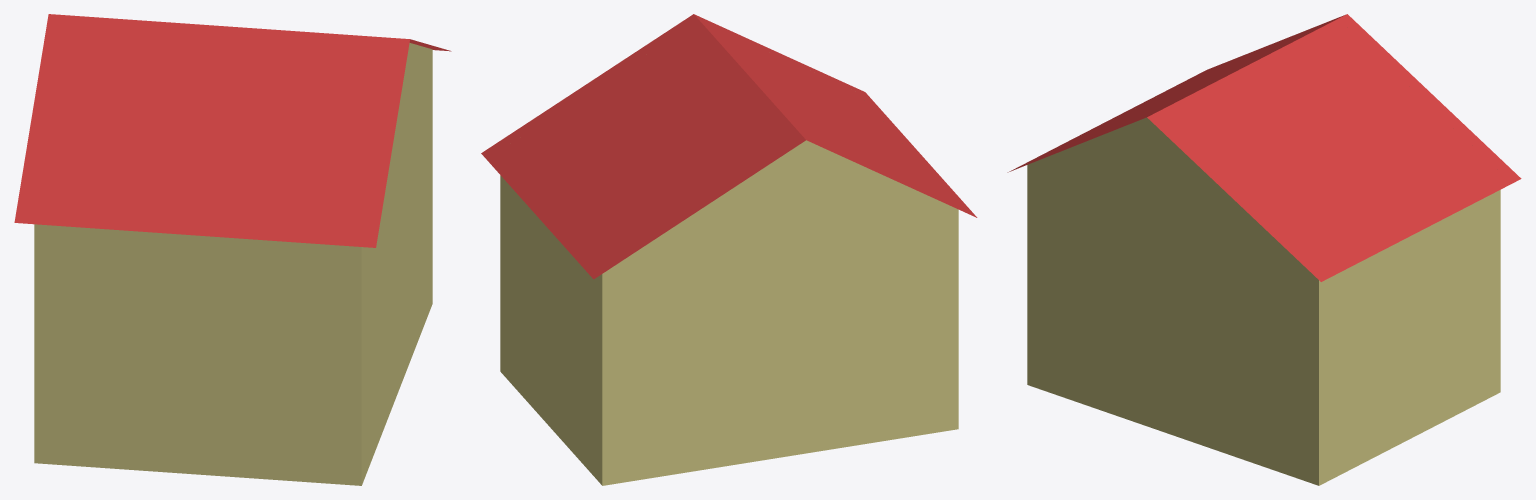
The picture shows the model from 3 angles, left to right: view 1: azimuth 30°, elevation 25°; view 2: azimuth 150°, elevation 25°; view 3: azimuth 270°, elevation 25°; orthographic projection. The views are drawn at different scales.
Bounding box in the file's own units: 16.87 × 17.3 × 11.75.
